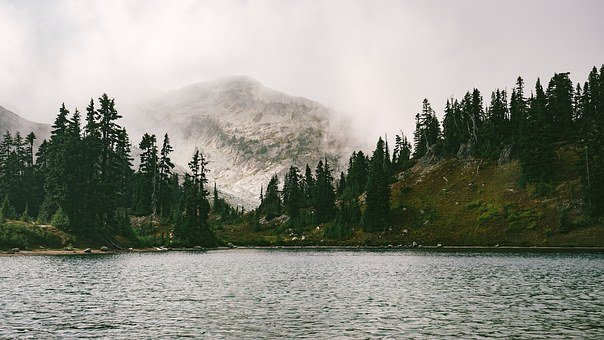lake: (6, 250, 603, 339)
mountain: (14, 91, 600, 244)
